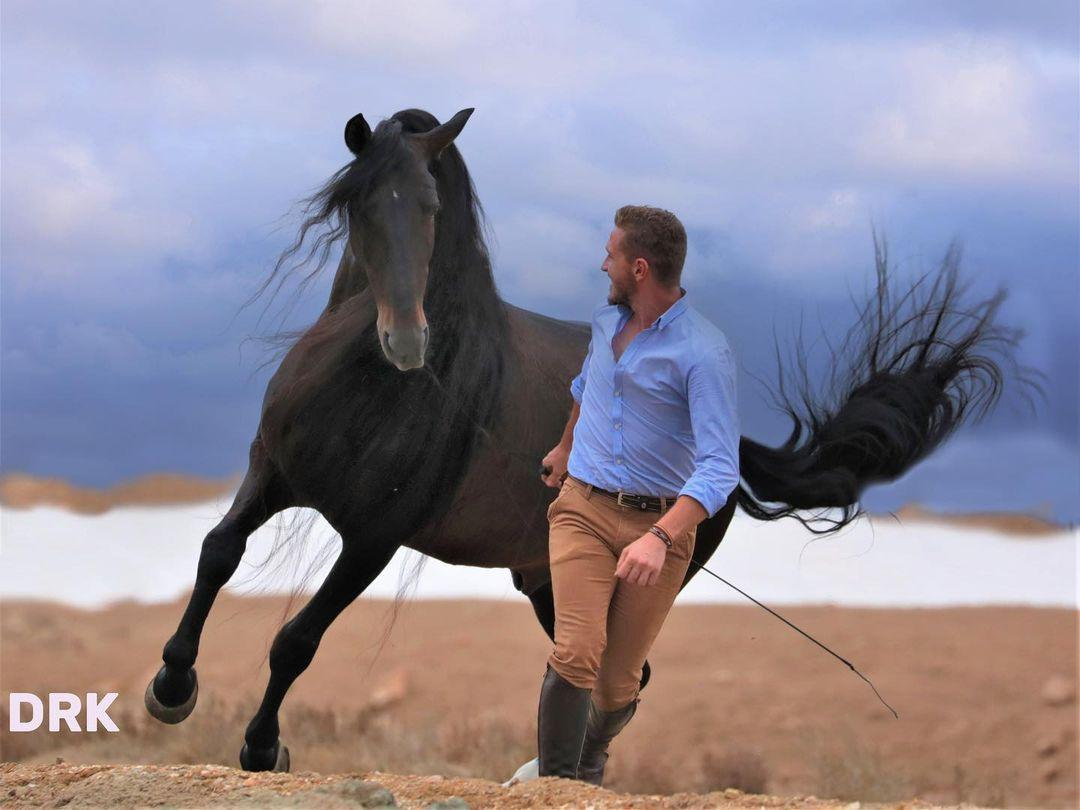horse: (144, 105, 1039, 783)
